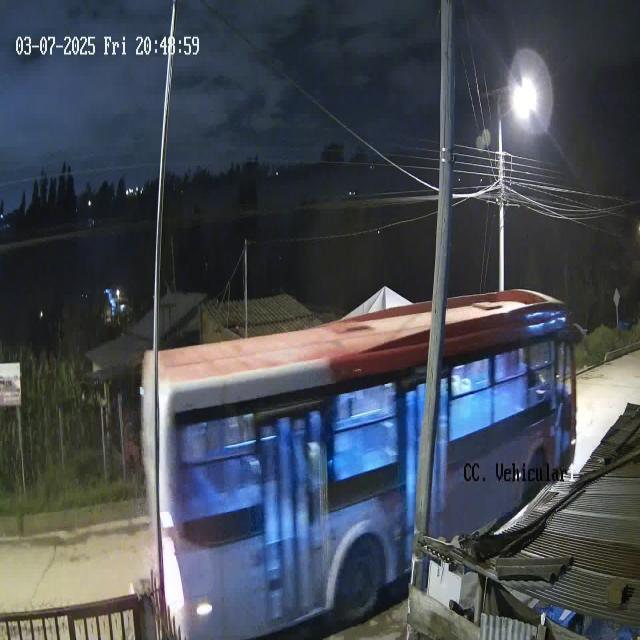BUS: (140, 281, 582, 640)
